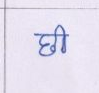i_matra: (56, 25, 68, 53)
